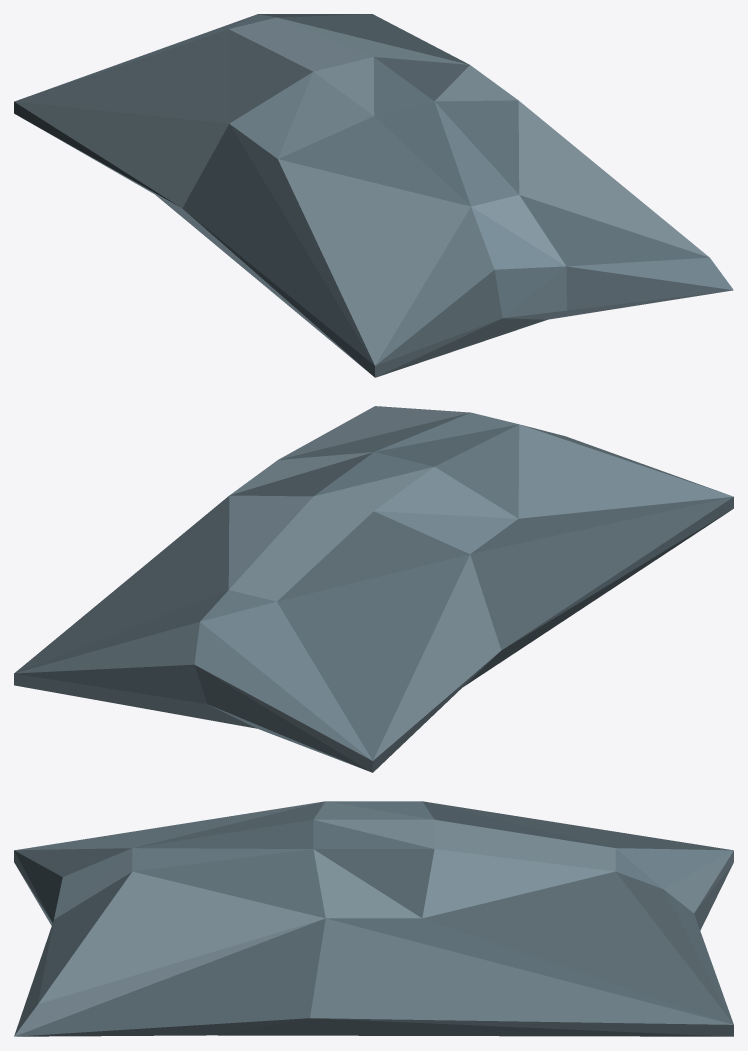
File: Prop_GrainSackB.fbx
The picture shows the model from 3 angles, top to bottom: view 1: azimuth 30°, elevation 25°; view 2: azimuth 150°, elevation 25°; view 3: azimuth 270°, elevation 25°; orthographic projection.
Visible parts, largest first — view 1: Prop_GrainSackB; view 2: Prop_GrainSackB; view 3: Prop_GrainSackB.
Boxes of the visible parts, bbox=[...] form: Prop_GrainSackB: bbox=[14, 14, 733, 377]; Prop_GrainSackB: bbox=[14, 406, 733, 772]; Prop_GrainSackB: bbox=[14, 801, 733, 1036].
Size of the model in its own units: 81.22 by 30.22 by 142.
